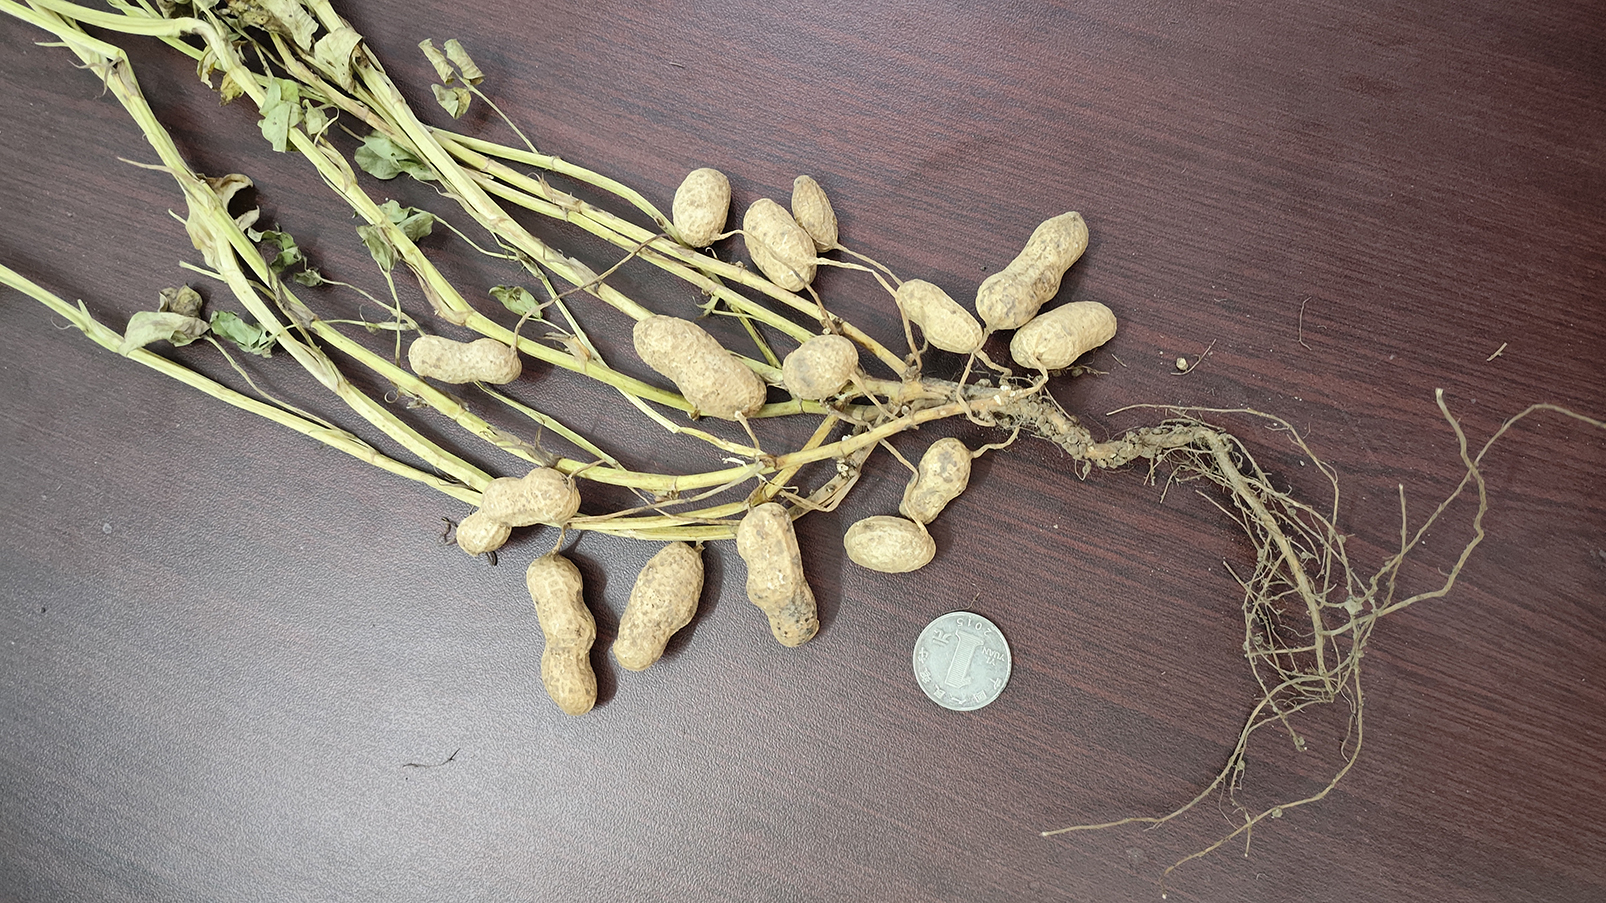h: (634, 314, 764, 413), (975, 209, 1088, 324), (612, 538, 705, 671), (735, 504, 821, 645), (526, 553, 600, 712), (456, 466, 581, 553), (1009, 299, 1118, 370), (743, 195, 818, 290), (893, 278, 982, 352), (408, 332, 524, 388), (900, 436, 968, 517), (845, 515, 938, 572), (781, 332, 856, 402), (672, 166, 734, 246), (790, 173, 838, 251)
